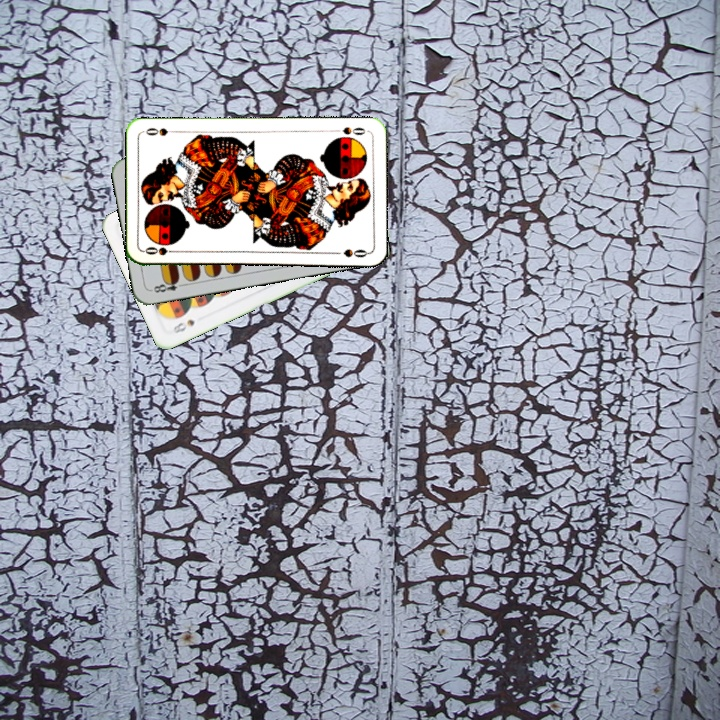E8: (147, 275, 188, 295)
S8: (169, 315, 197, 336)
SO: (141, 243, 182, 258), (338, 123, 370, 137)
